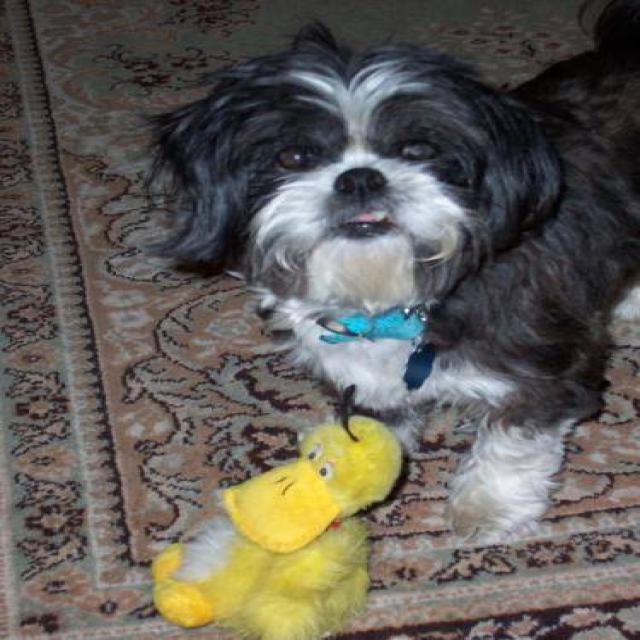dog: (133, 0, 638, 548)
